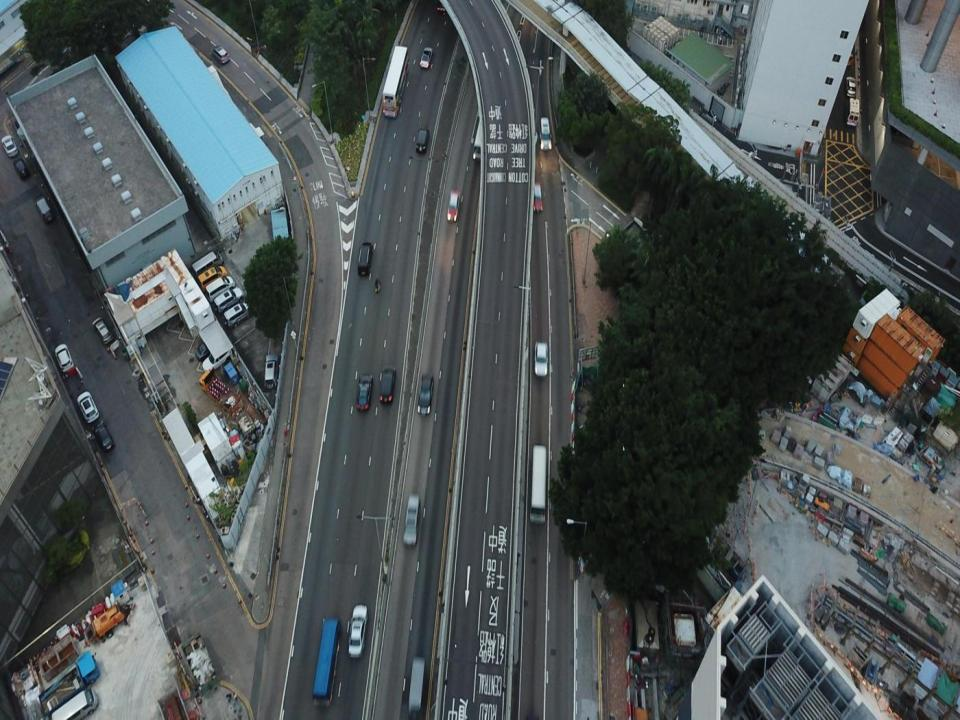bus: (313, 618, 342, 706), (473, 70, 497, 166), (383, 44, 410, 117), (408, 652, 426, 715), (532, 441, 545, 524)
car: (347, 603, 365, 657), (77, 389, 100, 426), (54, 344, 77, 378), (92, 422, 114, 452), (264, 352, 281, 386), (418, 374, 432, 415), (193, 337, 220, 358), (92, 314, 111, 343), (357, 372, 371, 410), (534, 341, 548, 379), (34, 195, 52, 224), (381, 365, 395, 402), (529, 179, 542, 210), (13, 156, 30, 178), (212, 44, 230, 63), (448, 190, 459, 221), (415, 127, 427, 154), (1, 132, 15, 154), (419, 46, 432, 68)
truck: (199, 366, 244, 412)
van: (49, 690, 97, 719), (404, 495, 420, 546), (192, 250, 223, 276), (223, 301, 252, 326), (205, 277, 235, 301), (198, 265, 227, 289), (214, 288, 243, 310), (200, 350, 232, 368), (357, 240, 372, 277), (542, 116, 551, 152)
